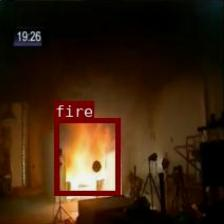fire: (54, 118, 120, 194)
